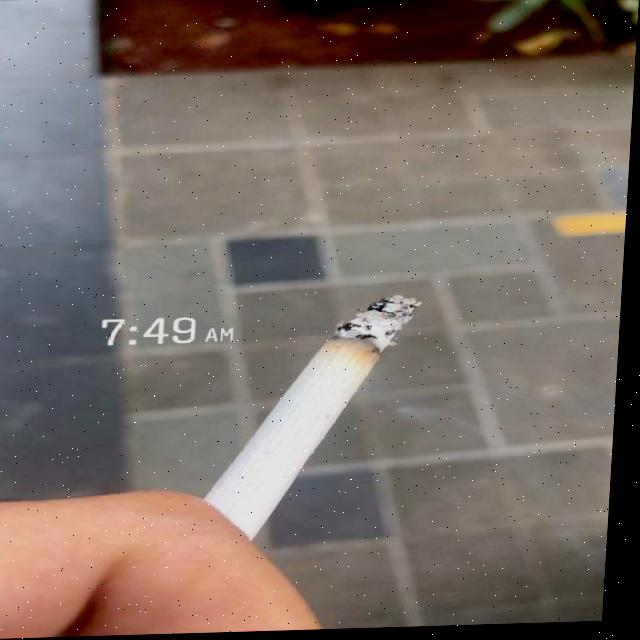cigarette: (210, 294, 426, 544)
